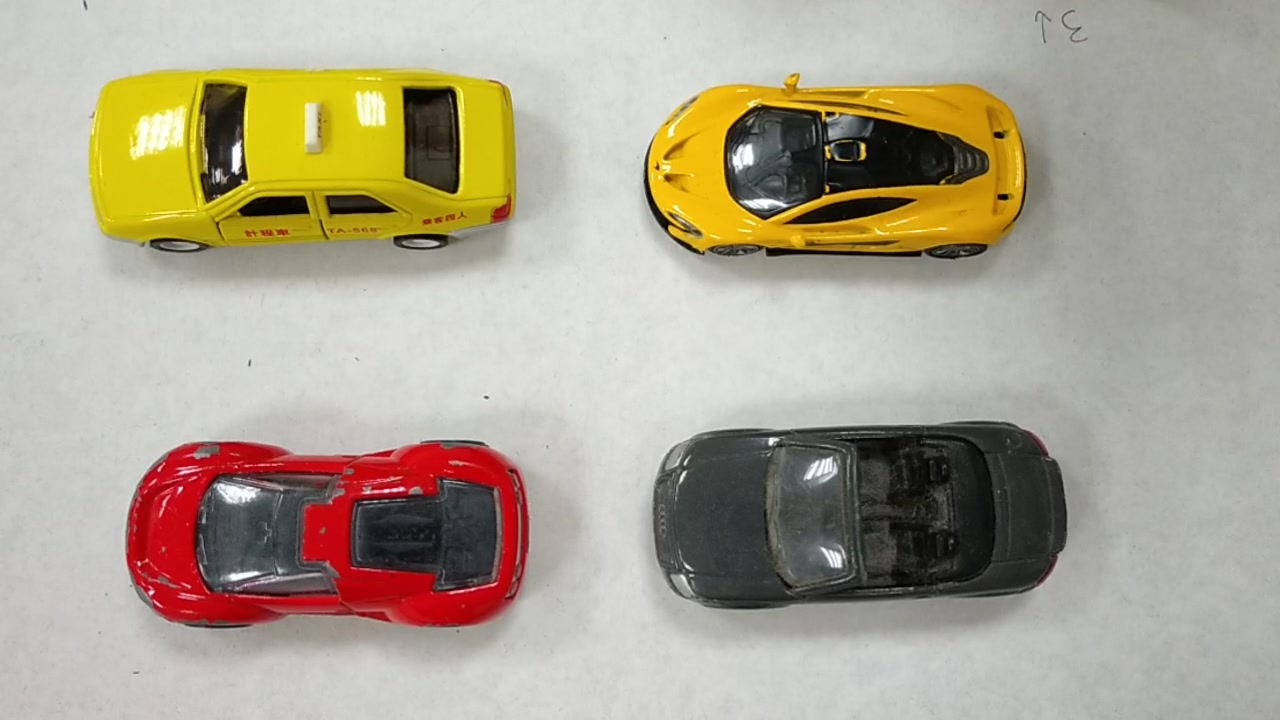car: (646, 421, 1069, 600), (123, 438, 522, 624), (91, 81, 517, 241), (645, 96, 1028, 252)
